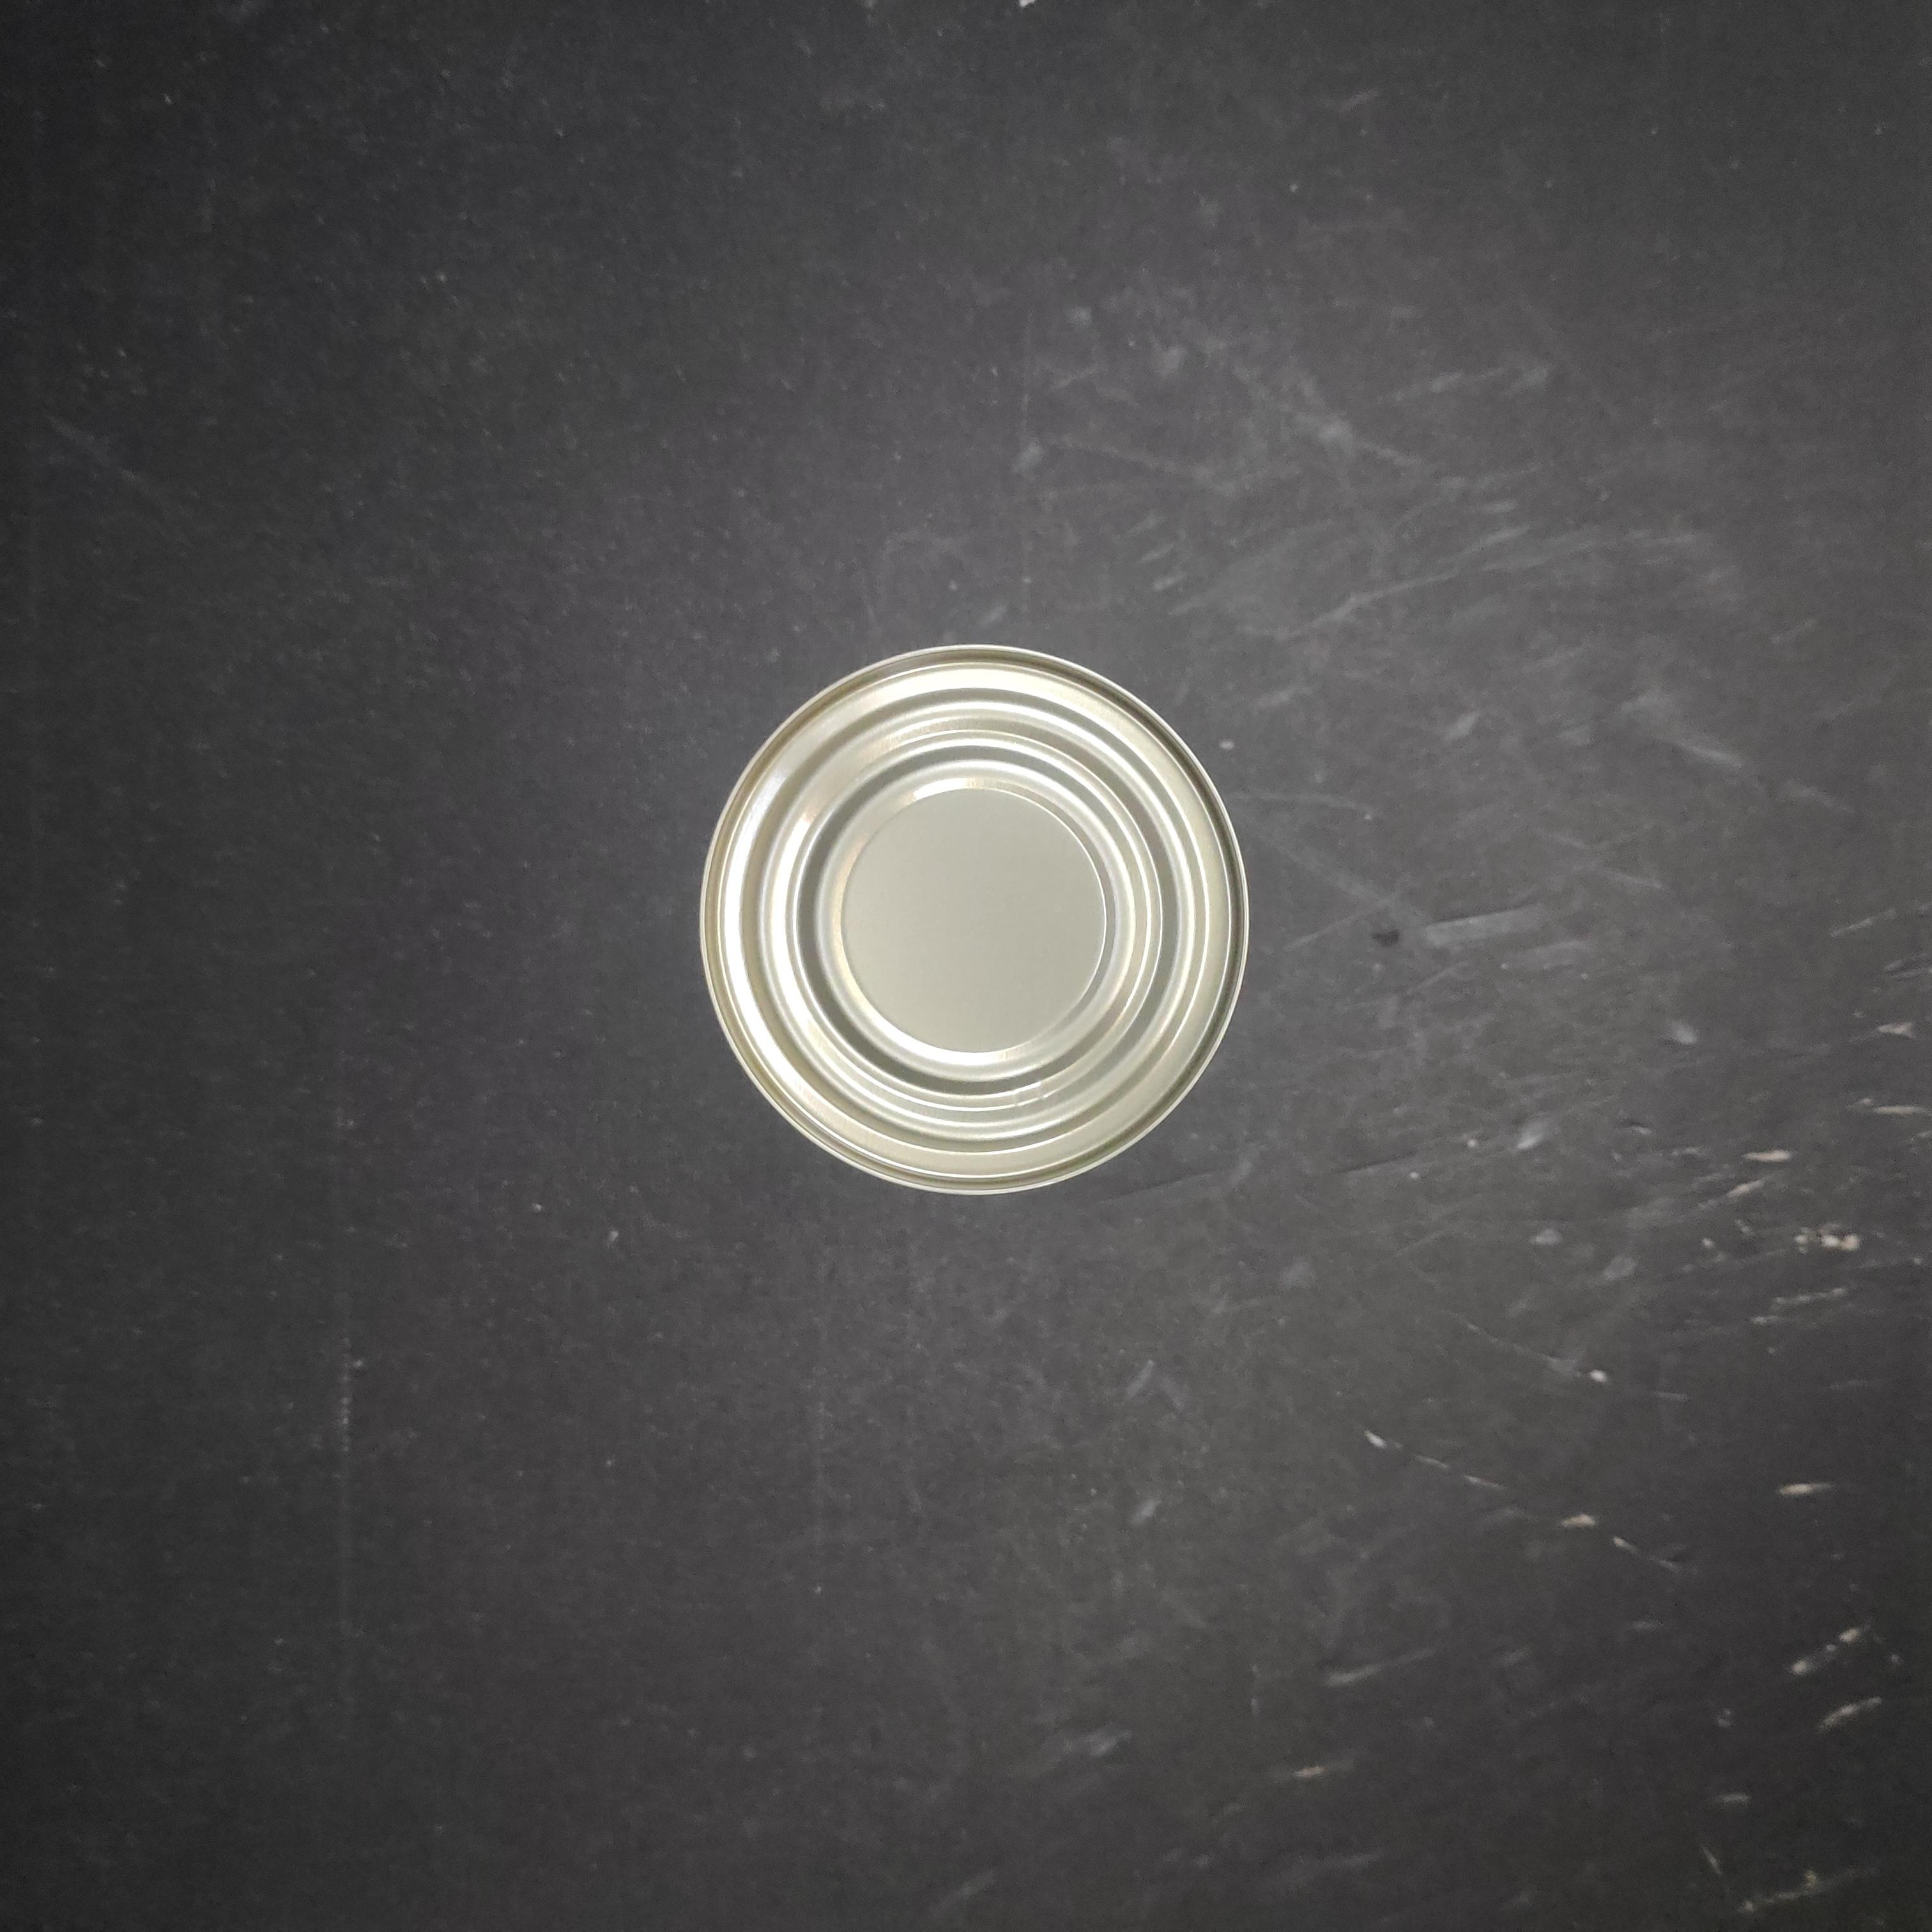No defect: (726, 671, 1298, 1269)
